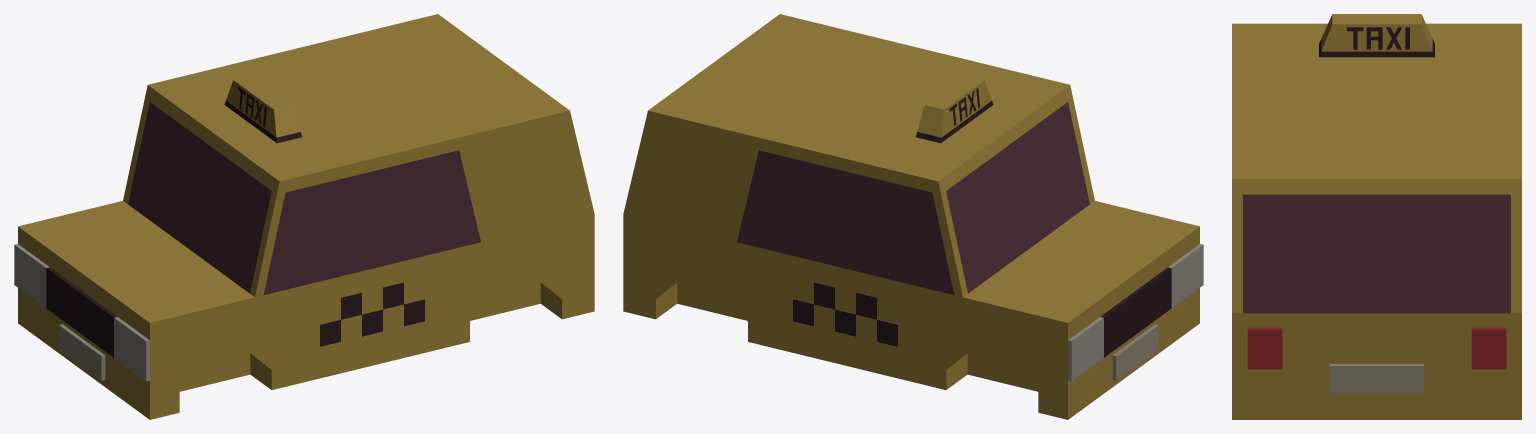
Rendered from Suv_Taxi.fbx.
The picture shows the model from 3 angles, left to right: view 1: azimuth 30°, elevation 25°; view 2: azimuth 150°, elevation 25°; view 3: azimuth 270°, elevation 25°; orthographic projection. The views are drawn at different scales.
Visible parts, largest first — view 1: Suv_Taxi, Suv_TaxiLights; view 2: Suv_Taxi, Suv_TaxiLights; view 3: Suv_Taxi, Suv_TaxiLights.
Boxes of the visible parts, x1=… form: Suv_Taxi: x1=18, y1=14, x2=594, y2=419; Suv_TaxiLights: x1=14, y1=244, x2=149, y2=381; Suv_Taxi: x1=623, y1=14, x2=1199, y2=419; Suv_TaxiLights: x1=1068, y1=244, x2=1203, y2=381; Suv_Taxi: x1=1232, y1=14, x2=1521, y2=419; Suv_TaxiLights: x1=1247, y1=327, x2=1506, y2=369.
Size of the model in its own units: 3.66 by 1.82 by 1.85.
